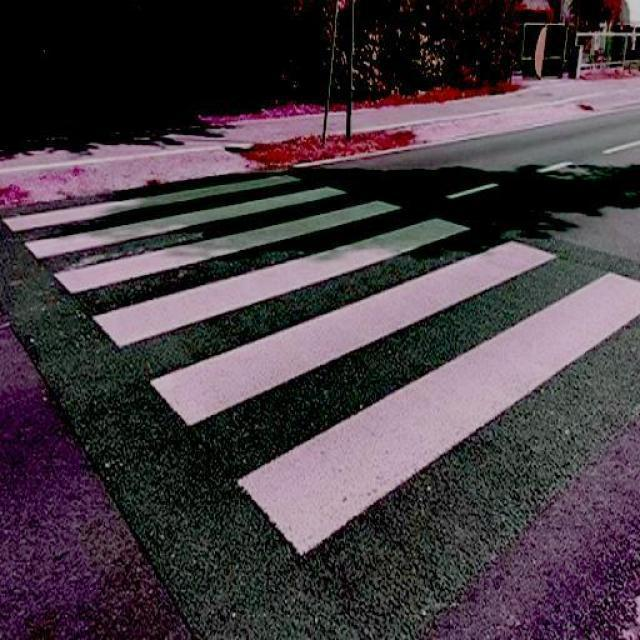crosswalk: (1, 170, 639, 569)
